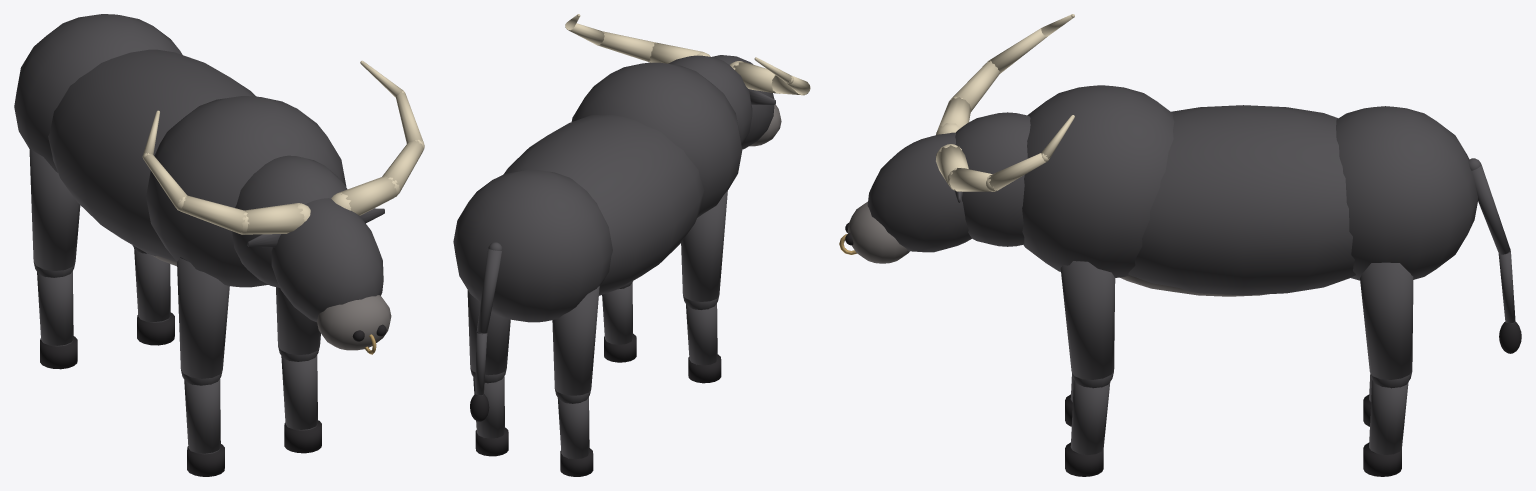
File: buffalo.glb
The picture shows the model from 3 angles, left to right: view 1: azimuth 30°, elevation 25°; view 2: azimuth 150°, elevation 25°; view 3: azimuth 270°, elevation 25°; orthographic projection. The views are drawn at different scales.
Visible parts, largest first — view 1: Body, Head, LegFL, LegBL, LegFR, LegBR; view 2: Body, LegBL, LegFL, Head, LegBR, Tail, LegFR; view 3: Body, Head, LegFR, LegBR, Tail.
Boxes of the visible parts, <box> form: Body: <box>14,14,347,287</box>; Head: <box>142,60,424,354</box>; LegFL: <box>177,257,229,476</box>; LegBL: <box>29,147,80,369</box>; LegFR: <box>276,287,321,453</box>; LegBR: <box>132,245,174,345</box>; Body: <box>453,55,752,322</box>; LegBL: <box>552,286,599,476</box>; LegFL: <box>681,190,727,383</box>; Head: <box>565,14,810,149</box>; LegBR: <box>467,290,510,456</box>; Tail: <box>470,242,502,421</box>; LegFR: <box>602,281,636,362</box>; Body: <box>955,85,1477,296</box>; Head: <box>839,14,1074,263</box>; LegFR: <box>1060,261,1115,476</box>; LegBR: <box>1360,262,1413,476</box>; Tail: <box>1468,158,1521,353</box>.
Bounding box in the file's own units: 1.08 × 1.48 × 2.4.
